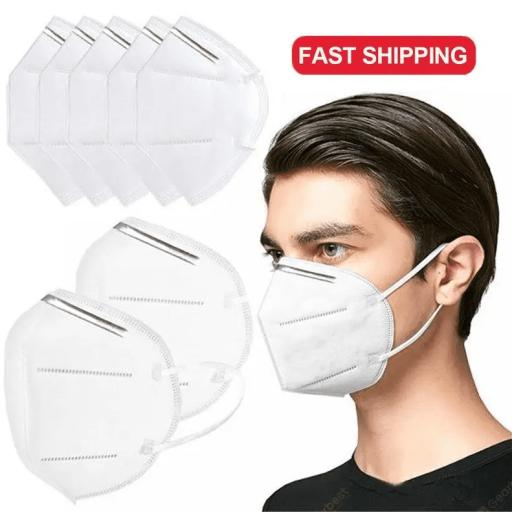mask: (4, 287, 186, 512), (254, 255, 397, 423)
